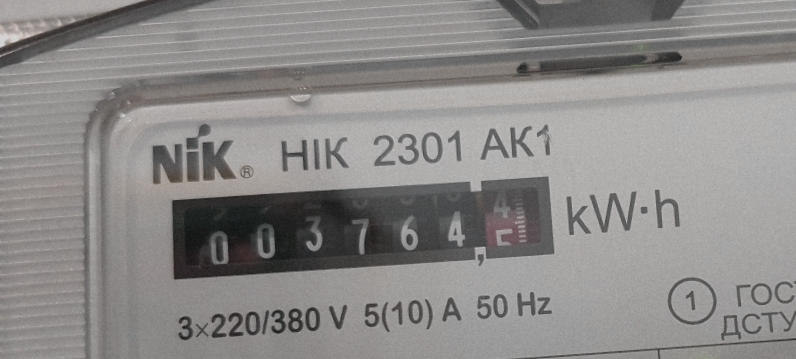0: (205, 226, 231, 265), (253, 219, 277, 260)
3: (300, 212, 325, 253)
4: (445, 207, 467, 248), (490, 186, 513, 219)
5: (492, 225, 515, 248)
6: (397, 211, 420, 251)
7: (348, 213, 374, 256)
screen: (153, 157, 570, 294)
